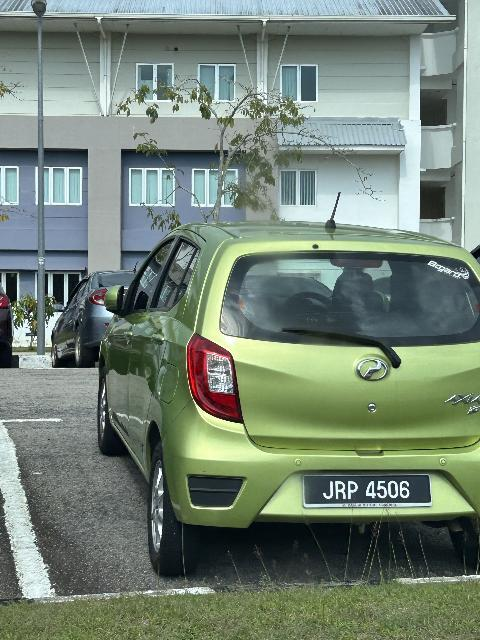JRP4506: (305, 473, 431, 507)
License_Plate: (305, 473, 431, 507)
car: (89, 222, 480, 579)
